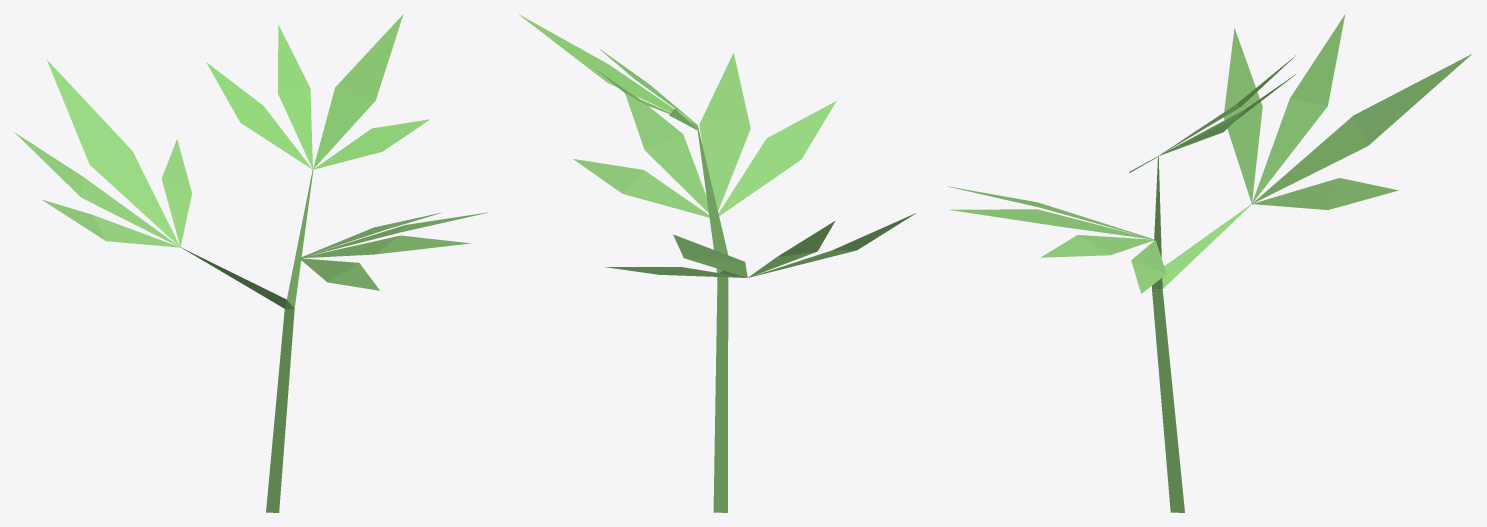
File: Plant_i_TwoS_07.fbx
The picture shows the model from 3 angles, left to right: view 1: azimuth 30°, elevation 25°; view 2: azimuth 150°, elevation 25°; view 3: azimuth 270°, elevation 25°; orthographic projection. The views are drawn at different scales.
Parts seen in each view (by area): view 1: Plant_i_TwoS_07; view 2: Plant_i_TwoS_07; view 3: Plant_i_TwoS_07.
Boxes of the visible parts, x1,y1,x2,y2 form: Plant_i_TwoS_07: [14, 14, 487, 512]; Plant_i_TwoS_07: [519, 14, 915, 512]; Plant_i_TwoS_07: [948, 14, 1471, 512].
Bounding box in the file's own units: 39.66 × 45.59 × 45.62.
